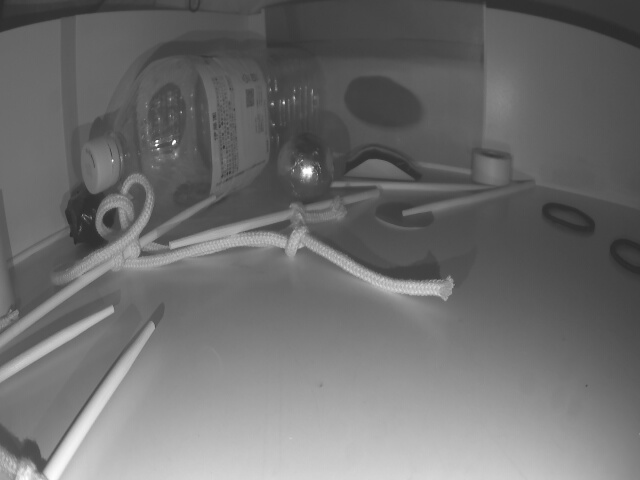Dead: (64, 181, 113, 244)
Live: (277, 135, 333, 204)
